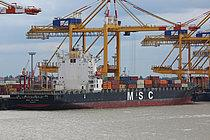Ship: (5, 54, 202, 110)
